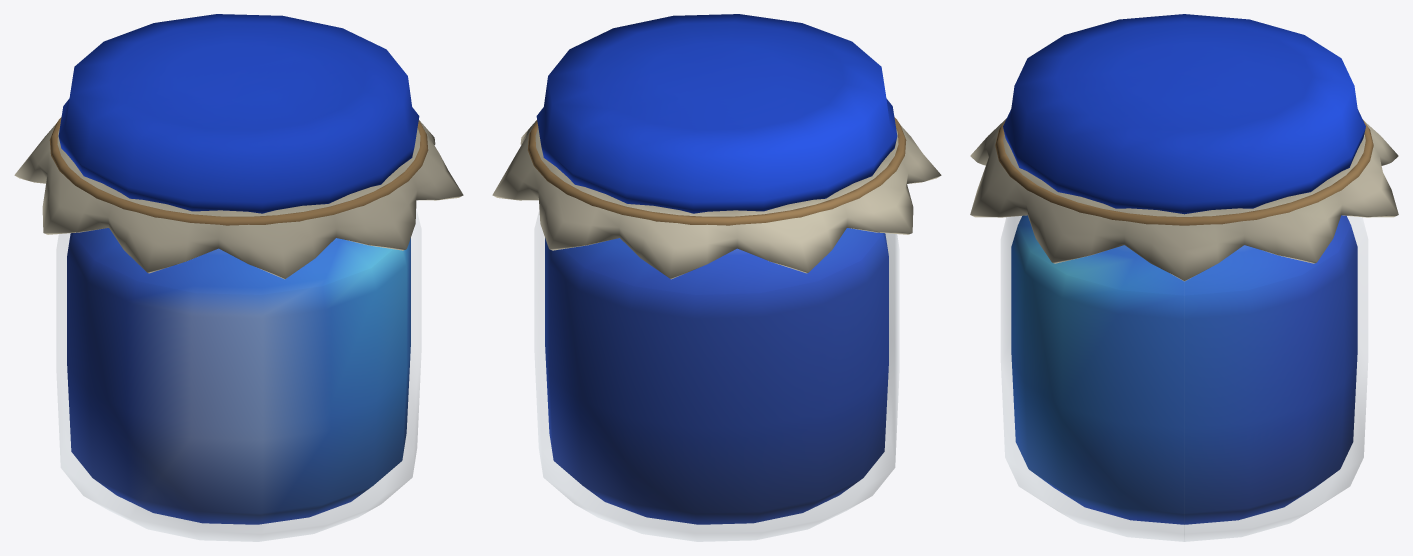
Rendered from Jelly_Jar_Plasma.glb.
3 renders of one model, left to right at view 1: azimuth 30°, elevation 25°; view 2: azimuth 150°, elevation 25°; view 3: azimuth 270°, elevation 25°, orthographic.
Parts seen in each view (by area): view 1: JAR_Jelly, JAR_Glass, JAR_Lid, JAR_Paper, JAR_Twine; view 2: JAR_Jelly, JAR_Lid, JAR_Glass, JAR_Paper, JAR_Twine; view 3: JAR_Jelly, JAR_Lid, JAR_Glass, JAR_Paper, JAR_Twine.
Boxes of the visible parts, x1,y1,x2,y2 form: JAR_Jelly: [67, 228, 410, 524]; JAR_Glass: [57, 210, 420, 541]; JAR_Lid: [58, 14, 419, 213]; JAR_Paper: [14, 120, 463, 279]; JAR_Twine: [49, 117, 428, 225]; JAR_Jelly: [545, 228, 888, 524]; JAR_Lid: [536, 14, 897, 213]; JAR_Glass: [535, 214, 898, 541]; JAR_Paper: [492, 120, 941, 279]; JAR_Twine: [527, 117, 906, 225]; JAR_Jelly: [1011, 215, 1357, 524]; JAR_Lid: [1003, 14, 1365, 214]; JAR_Glass: [1001, 216, 1367, 541]; JAR_Paper: [970, 118, 1398, 281]; JAR_Twine: [995, 120, 1373, 225].
Bounding box in the file's own units: 1.06 × 1.05 × 1.
